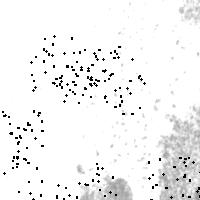pitted_surface: (76, 1, 153, 173), (155, 104, 200, 198), (63, 46, 121, 104), (84, 56, 143, 113), (30, 35, 80, 94), (0, 110, 41, 169), (148, 157, 200, 200), (56, 163, 115, 200), (0, 166, 56, 200), (77, 176, 138, 200), (168, 1, 200, 30)
